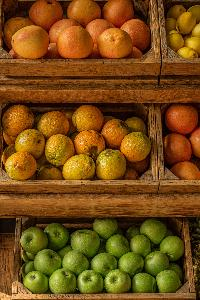apple: (12, 204, 192, 294)
orange: (0, 102, 154, 174), (6, 0, 154, 62)
